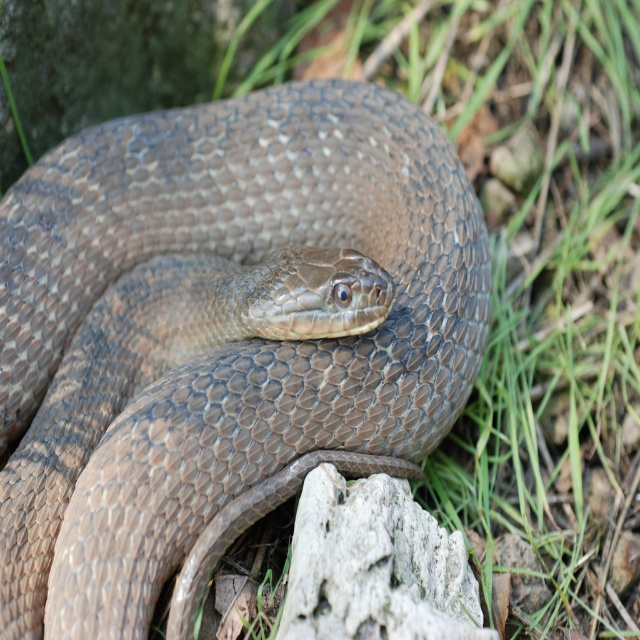Snake: (0, 75, 494, 639)
